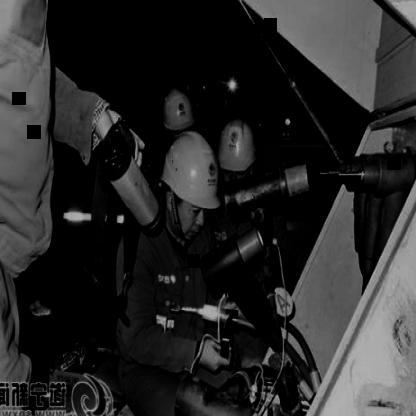helmet: (162, 130, 222, 237), (216, 114, 260, 184), (161, 88, 195, 140)
